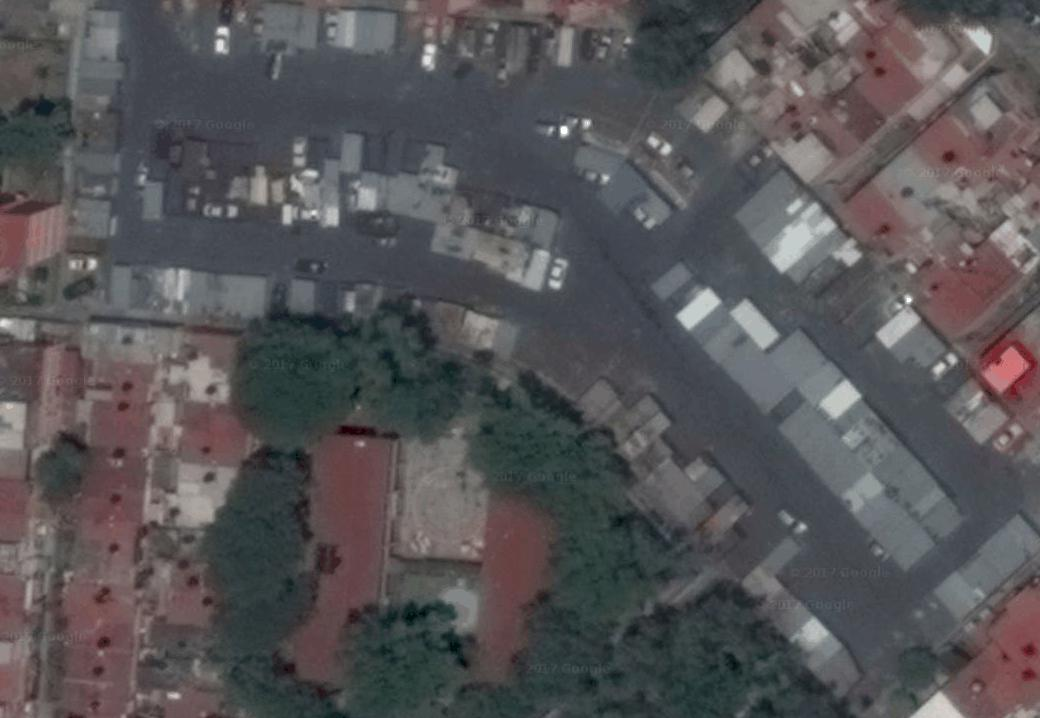parkingspot: (299, 92, 313, 107)
